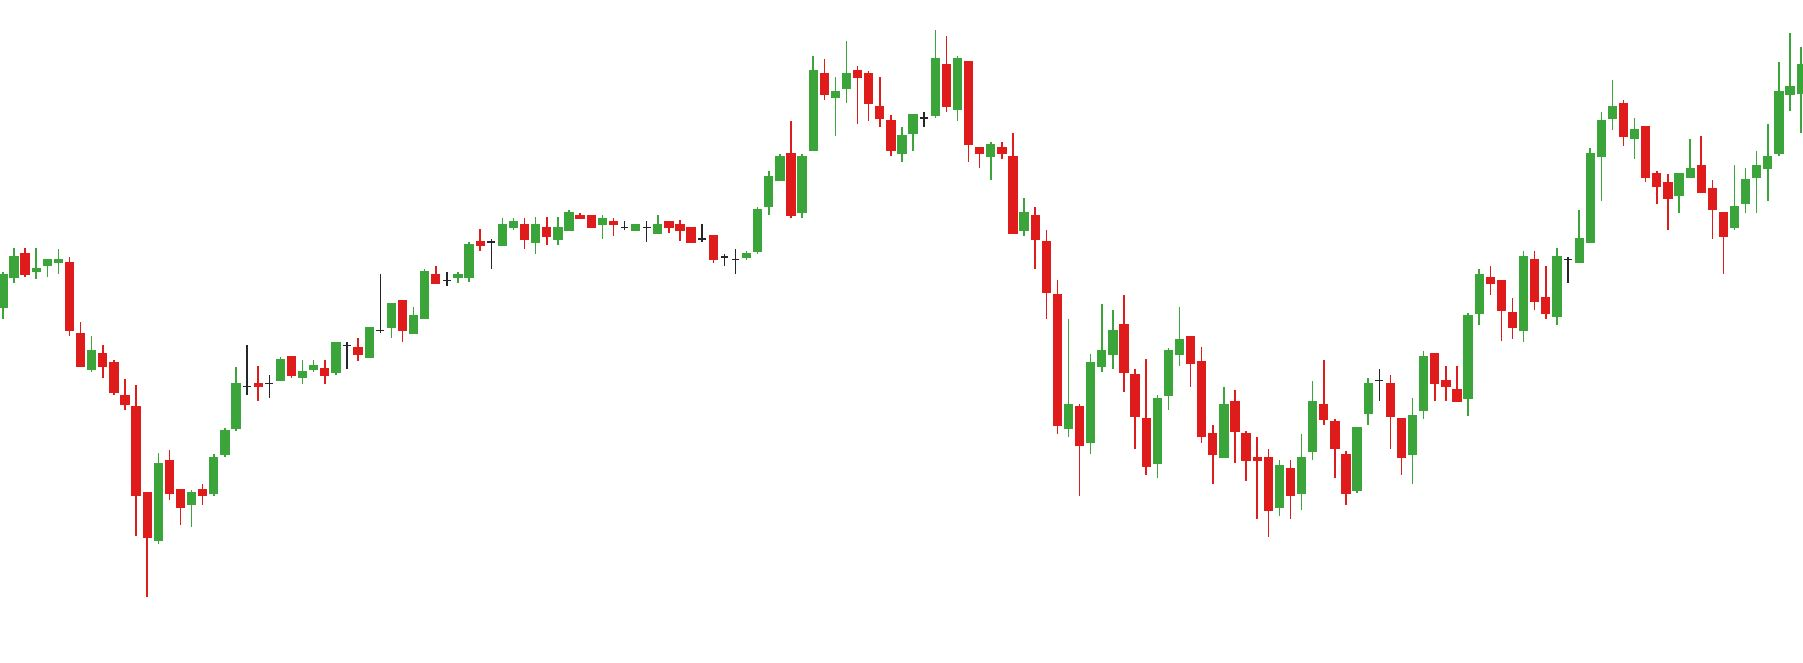buy: (1662, 174, 1739, 273)
sell: (833, 37, 949, 134)
